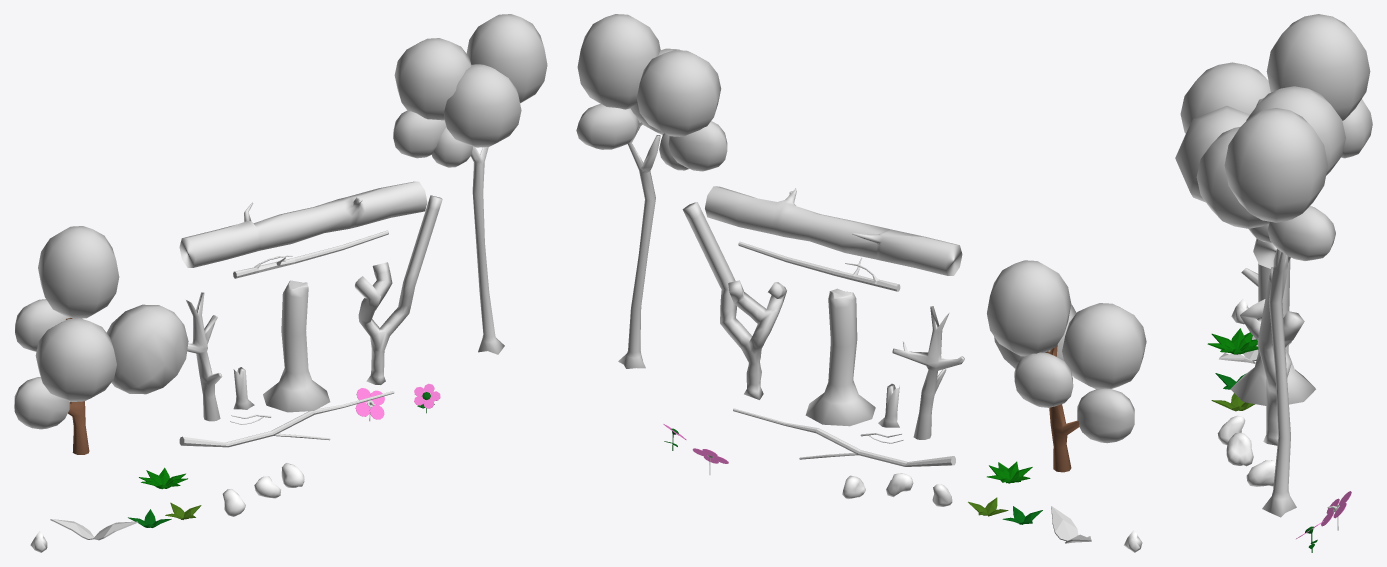
The model's file is Arbol1 1.fbx.
The picture shows the model from 3 angles, left to right: view 1: azimuth 30°, elevation 25°; view 2: azimuth 150°, elevation 25°; view 3: azimuth 270°, elevation 25°; orthographic projection. The views are drawn at different scales.
Visible parts, largest first — view 1: Cylinder.008, Cylinder.007, Cylinder.002, Cylinder.001, Vert, Cylinder, Cylinder.003, Cylinder.005, Hojas grandes individual.001, Hojas flores 2; view 2: Cylinder.007, Cylinder.008, Cylinder.002, Vert, Cylinder.001, Cylinder, Cylinder.003, Cylinder.005, Hojas grandes individual.001; view 3: Cylinder.007, Cylinder.008, Vert, Cylinder.001, Hojas grandres, rock.001, rock.003, Cylinder.002, rock.002, Hojas flores 2, Hojas grandes individual.001, Hojas grandes individual.004.
Boxes of the visible parts, box(x1,y1,x2,y2) form: Cylinder.008: box(14, 226, 188, 454); Cylinder.007: box(393, 14, 547, 354); Cylinder.002: box(179, 181, 427, 267); Cylinder.001: box(263, 280, 330, 412); Vert: box(355, 195, 442, 384); Cylinder: box(186, 292, 222, 421); Cylinder.003: box(179, 391, 394, 447); Cylinder.005: box(233, 230, 388, 278); Hojas grandes individual.001: box(50, 519, 138, 540); Hojas flores 2: box(355, 388, 384, 421); Cylinder.007: box(576, 14, 727, 368); Cylinder.008: box(987, 260, 1146, 472); Cylinder.002: box(705, 186, 962, 275); Vert: box(682, 202, 786, 399); Cylinder.001: box(805, 288, 875, 426); Cylinder: box(892, 306, 964, 439); Cylinder.003: box(733, 408, 955, 466); Cylinder.005: box(738, 241, 900, 291); Hojas grandes individual.001: box(1051, 506, 1091, 543); Cylinder.007: box(1196, 86, 1345, 517); Cylinder.008: box(1175, 14, 1372, 202); Vert: box(1240, 267, 1304, 445); Cylinder.001: box(1230, 259, 1315, 405); Hojas grandres: box(1207, 328, 1258, 354); rock.001: box(1226, 432, 1253, 466); rock.003: box(1246, 460, 1275, 486); Cylinder.002: box(1253, 98, 1290, 268); rock.002: box(1217, 415, 1245, 445); Hojas flores 2: box(1321, 491, 1351, 530); Hojas grandes individual.001: box(1219, 336, 1258, 363); Hojas grandes individual.004: box(1211, 393, 1254, 411).
Bounding box in the file's own units: 2666 × 1987 × 700.
